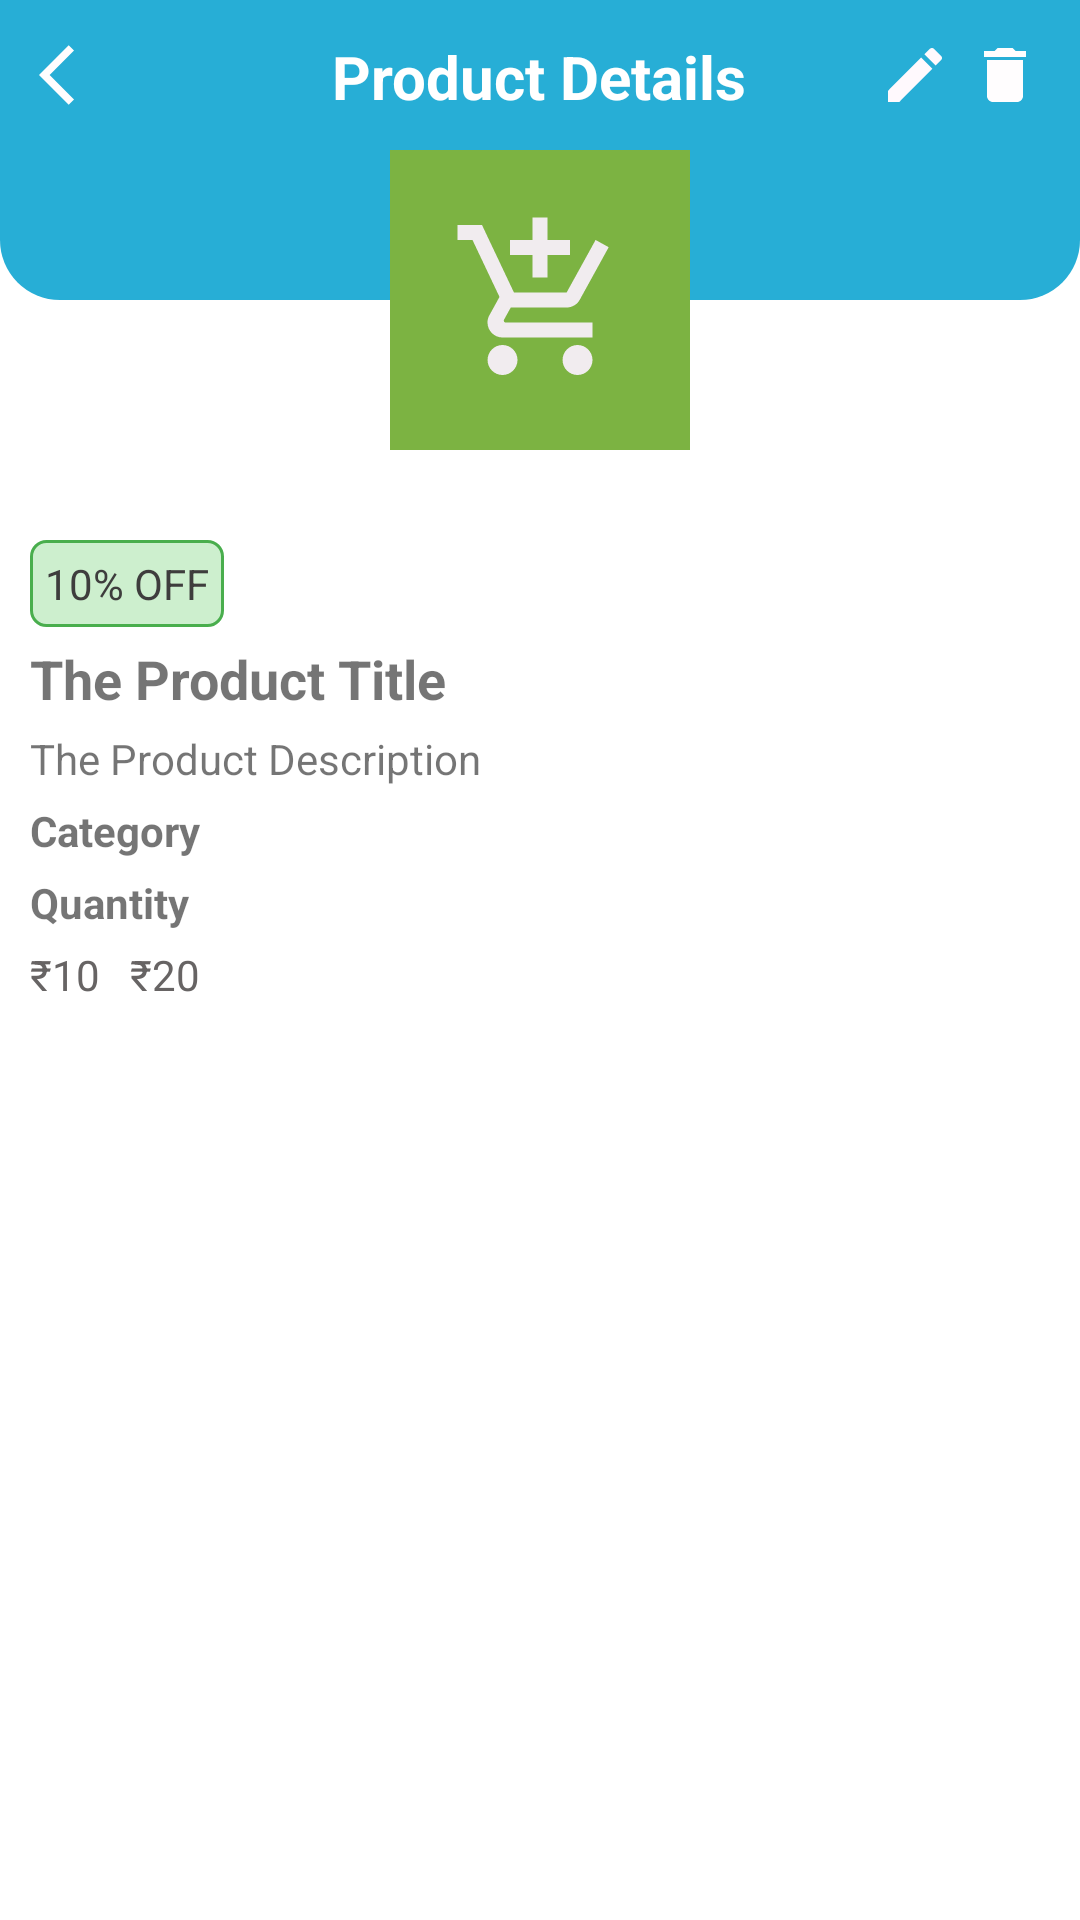

Icon click points for this 1080*1920 phone screenshot, format (x=x, y=y):
add shopping: (x=540, y=300)
back: (x=56, y=75)
delete: (x=1005, y=75)
edit: (x=915, y=75)
